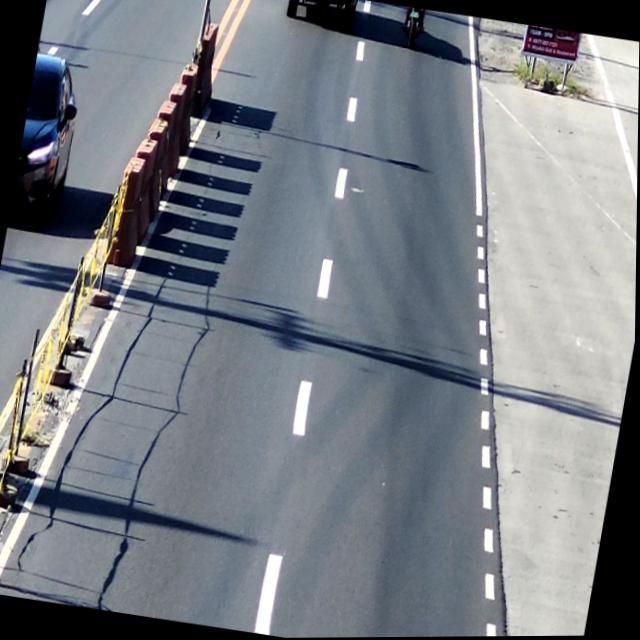Car: (284, 0, 359, 36)
Motorcycle: (396, 7, 428, 60)
